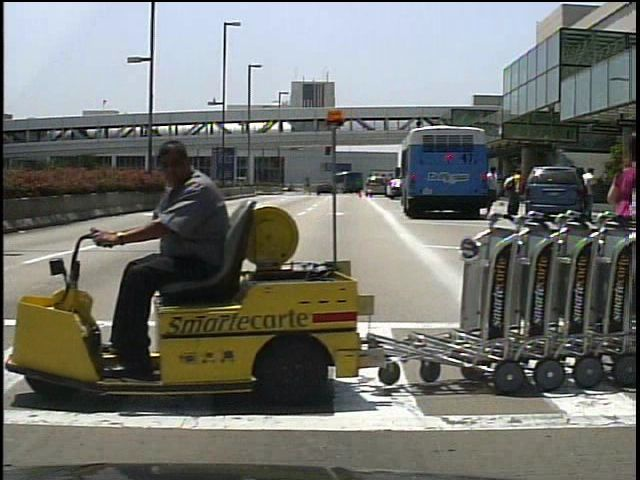person: (118, 137, 237, 376), (600, 119, 637, 350), (481, 164, 503, 216), (505, 166, 525, 218), (580, 165, 601, 214)
